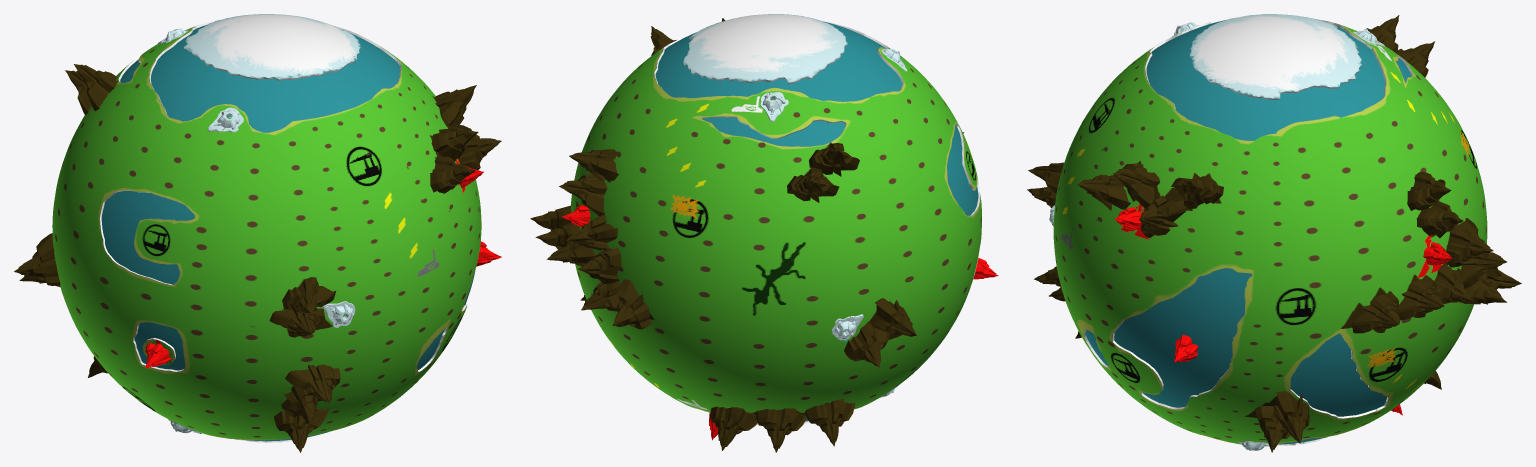
Rendered from 17_05_Planet&Ocean.fbx.
3 renders of one model, left to right at view 1: azimuth 30°, elevation 25°; view 2: azimuth 150°, elevation 25°; view 3: azimuth 270°, elevation 25°, orthographic. The views are drawn at different scales.
Visible parts, largest first — view 1: Planet_OBJ, Ocean_OBJ; view 2: Planet_OBJ, Ocean_OBJ; view 3: Planet_OBJ, Ocean_OBJ.
Part boxes in pixels (x1,y1,x2,y2): Planet_OBJ: (14,14,501,452); Ocean_OBJ: (101,25,475,441); Planet_OBJ: (530,14,998,452); Ocean_OBJ: (655,22,978,421); Planet_OBJ: (1027,14,1521,452); Ocean_OBJ: (1085,20,1411,444).
Bounding box in the file's own units: 21.12 × 20 × 22.81.
Materials: 1 (1 with a texture image).
